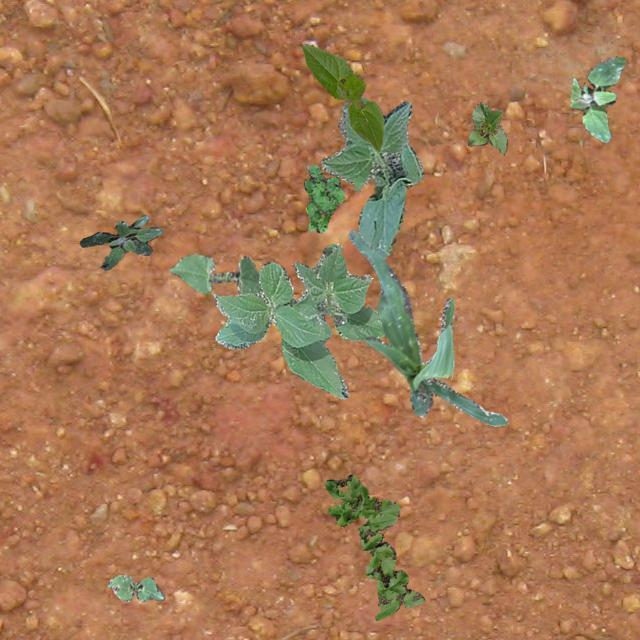crop: (348, 228, 508, 426), (212, 242, 384, 398), (320, 95, 422, 258), (300, 42, 382, 150), (168, 252, 258, 294), (466, 100, 506, 154), (106, 574, 164, 600)
weed: (324, 474, 424, 620), (570, 56, 624, 142), (78, 214, 162, 268), (302, 164, 343, 232)
